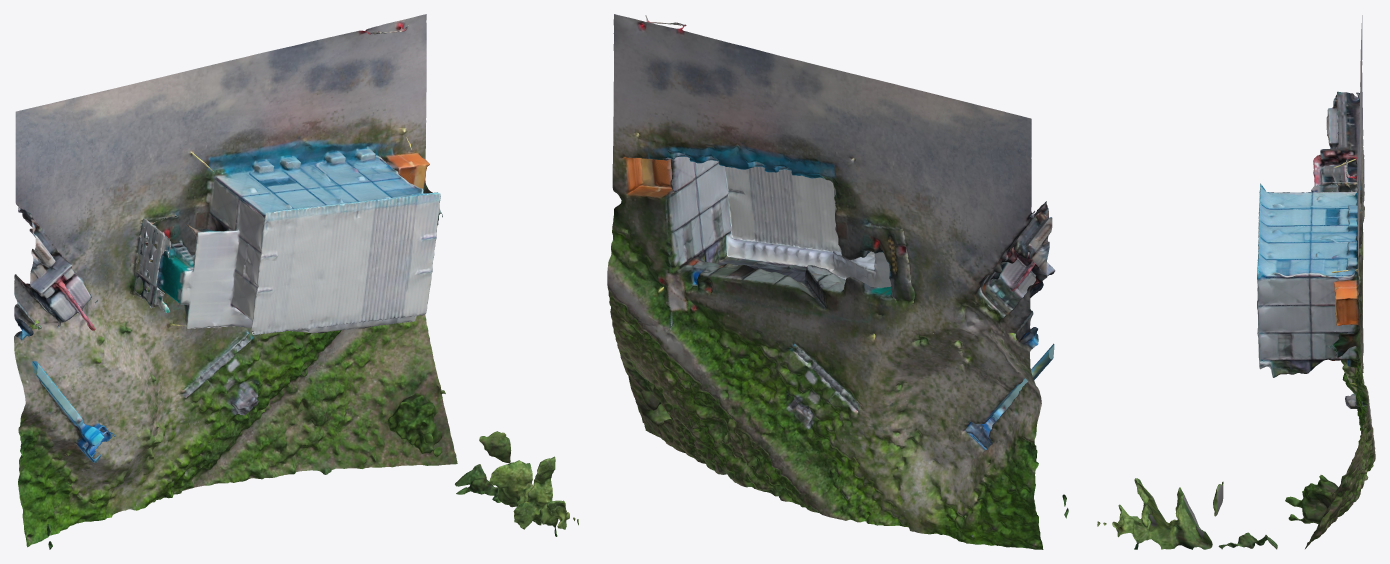
Rendered from Tile_+015_+003.fbx.
3 renders of one model, left to right at view 1: azimuth 30°, elevation 25°; view 2: azimuth 150°, elevation 25°; view 3: azimuth 270°, elevation 25°, orthographic. The views are drawn at different scales.
Parts seen in each view (by area): view 1: DefaultName; view 2: DefaultName; view 3: DefaultName.
Boxes of the visible parts, x1,y1,x2,y2 form: DefaultName: (14, 14, 578, 549); DefaultName: (607, 14, 1068, 549); DefaultName: (1097, 15, 1375, 549).
Bounding box in the file's own units: 22.54 × 22.54 × 15.57.
